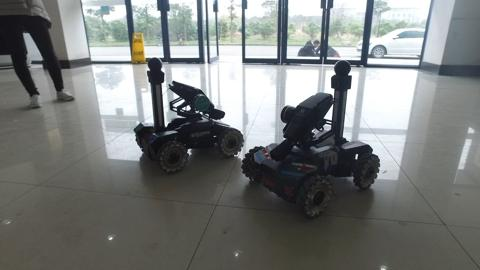chariot: (241, 59, 397, 226), (124, 53, 243, 179)
